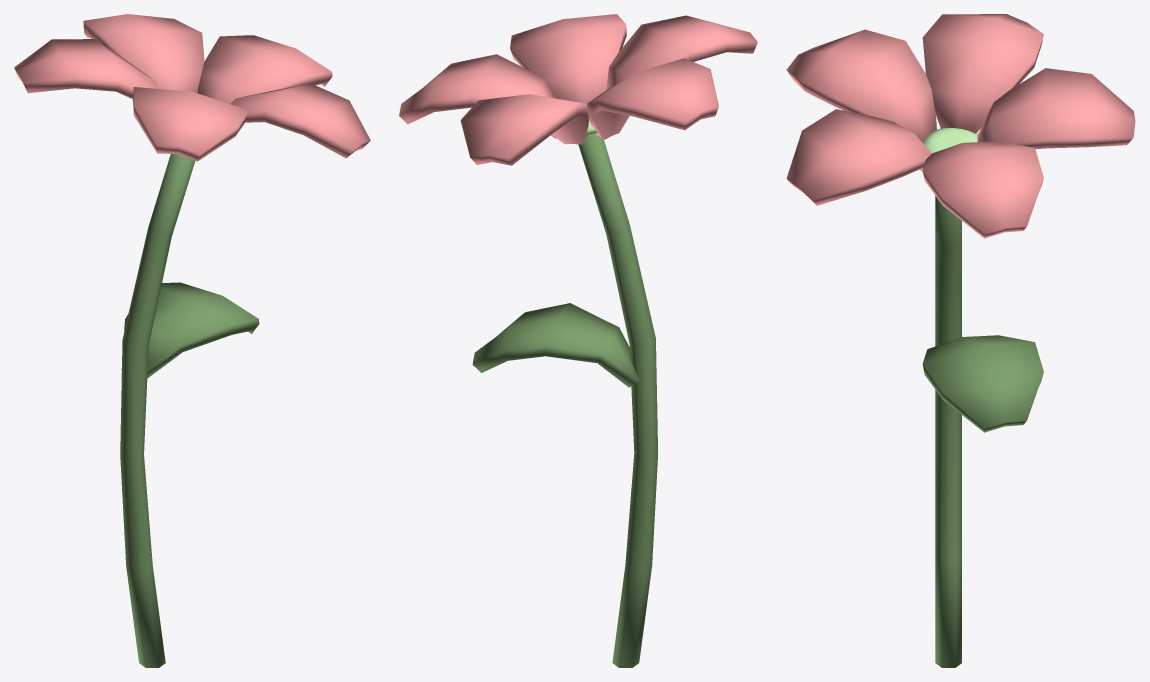
File: fragariaflower_1.fbx
The picture shows the model from 3 angles, left to right: view 1: azimuth 30°, elevation 25°; view 2: azimuth 150°, elevation 25°; view 3: azimuth 270°, elevation 25°; orthographic projection.
Parts seen in each view (by area): view 1: fragaria flower 1; view 2: fragaria flower 1; view 3: fragaria flower 1.
Part boxes in pixels (box(x1,y1,x2,y2)): fragaria flower 1: box(14, 14, 370, 667); fragaria flower 1: box(399, 14, 757, 667); fragaria flower 1: box(786, 14, 1135, 667).
Size of the model in its own units: 27.98 by 52.95 by 27.36.
